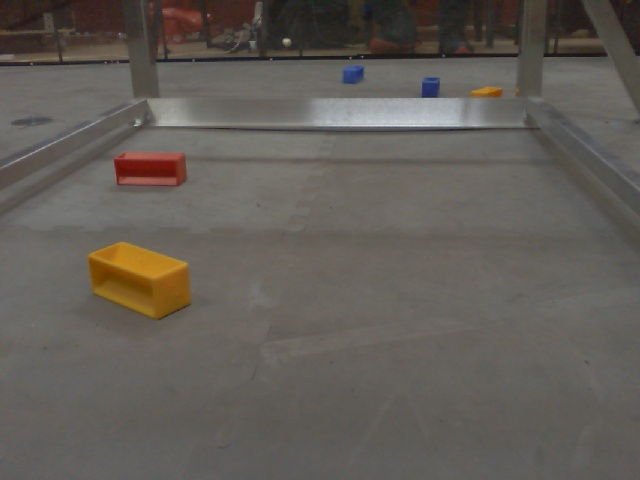BlueSample: (341, 64, 365, 85), (420, 76, 442, 97)
RedSample: (110, 147, 189, 190)
YellowSample: (85, 241, 194, 323), (469, 84, 505, 100)
